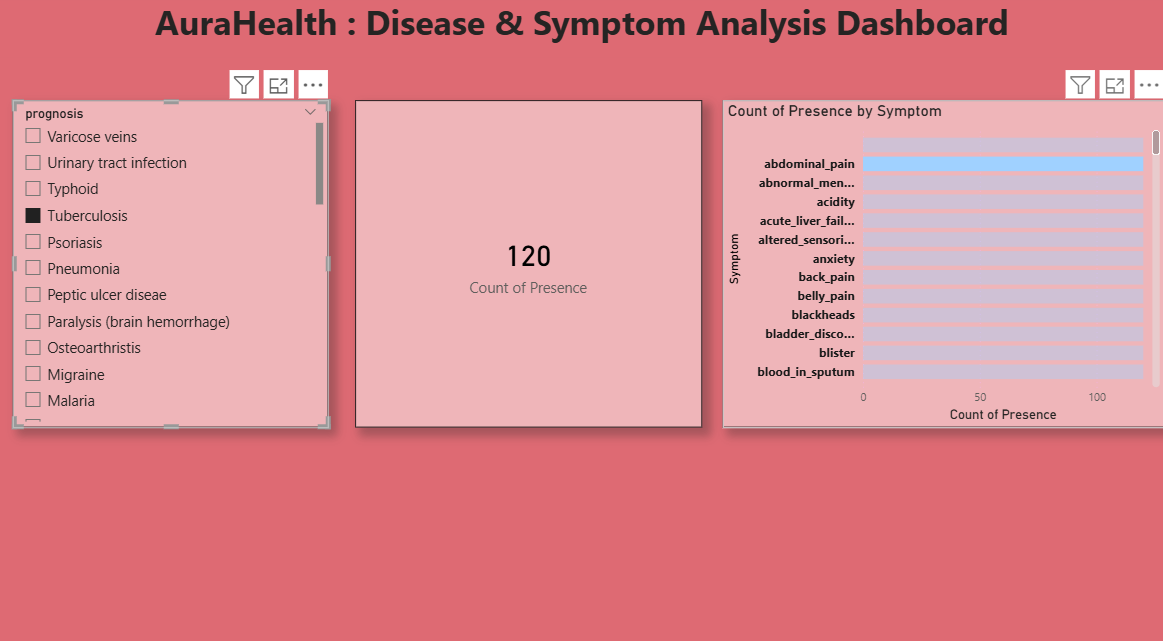

The page's visual inventory and layout, read from the dashboard file:
{"tool":"powerbi","page":{"name":"Symptom Overview","canvas":[1280,720],"ordinal":0},"visuals":[{"type":"clusteredBarChart","fields":{"Category":["Training.Symptom"],"Y":["CountNonNull(Training.Presence)"]},"box":[793.9,116.9,486.1,359.2],"z":0},{"type":"slicer","fields":{"Values":["Training.prognosis"]},"box":[15.7,116.9,346.4,359.2],"z":1000},{"type":"card","fields":{"Values":["CountNonNull(Training.Presence)"]},"box":[390.6,116.9,380.6,359.2],"z":2000},{"type":"textbox","box":[0,0,1280,69.8],"z":2001}]}

Visuals, with their boxes in screenshot pixels (x1, y1, x2, y2), scaled from the page's 1280x720 canvas onto the 1163x641 screenshot:
clusteredBarChart - Training.Symptom x CountNonNull(Training.Presence): detection(721, 104, 1162, 424)
slicer - Training.prognosis: detection(14, 104, 329, 424)
card - CountNonNull(Training.Presence): detection(355, 104, 701, 424)
textbox: detection(0, 0, 1162, 62)
